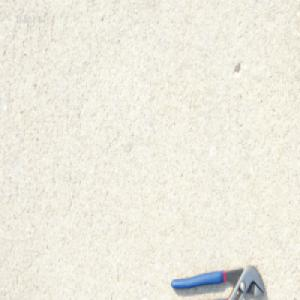Pliers: (165, 262, 265, 300)
